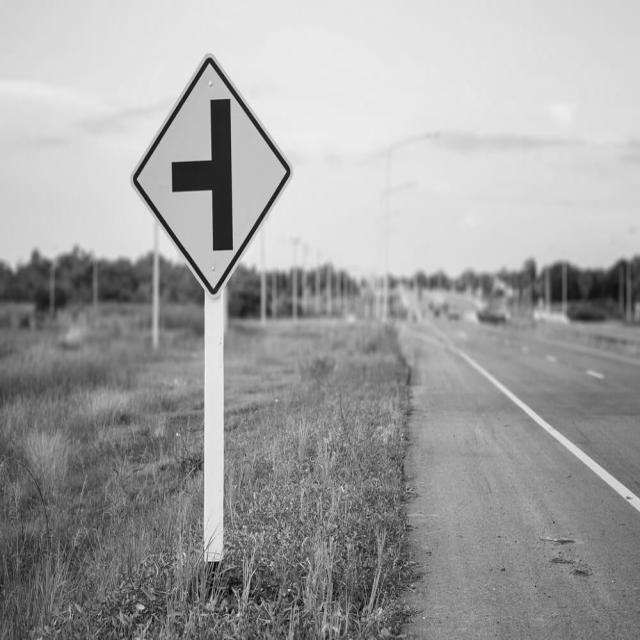side road left: (119, 49, 312, 294)
